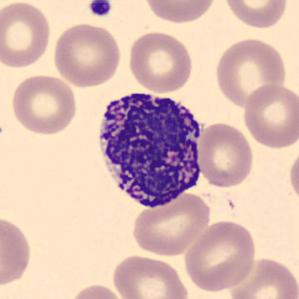Basophil: (90, 84, 209, 213)
Platelets: (86, 0, 114, 18), (0, 122, 4, 141)
RBC: (129, 189, 214, 258), (181, 218, 258, 294), (213, 36, 289, 110), (51, 20, 123, 89), (8, 71, 79, 137), (125, 28, 195, 94), (195, 120, 256, 190), (241, 82, 298, 150), (109, 252, 191, 299), (0, 0, 53, 70), (228, 255, 298, 299), (0, 212, 34, 290), (221, 0, 289, 29), (142, 0, 219, 25), (64, 281, 127, 299), (286, 145, 299, 207)
